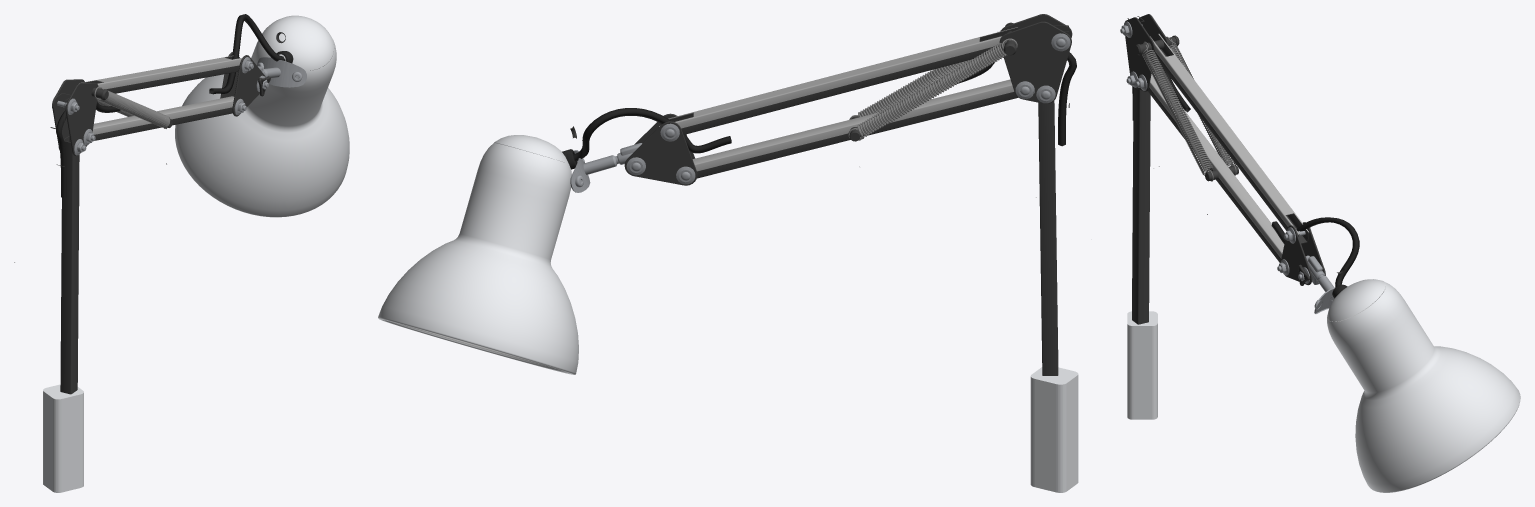
The model's file is Lamp Rotated.fbx.
3 views of the same model, side by side, from view 1: azimuth 30°, elevation 25°; view 2: azimuth 150°, elevation 25°; view 3: azimuth 270°, elevation 25° (orthographic). The views are drawn at different scales.
Visible parts, largest first — view 1: Object_2108, Object_1944, Object_2258, Object_1958, Object_1946, Object_2280, Object_2268, Object_2008, Object_2310, Object_2256, Object_2278, Object_2266 (+3 smaller); view 2: Object_2108, Object_1944, Object_2280, Object_2268, Object_2012, Object_2316, Object_2258, Object_2278, Object_2256, Object_1946, Object_2266, Object_1974 (+2 smaller); view 3: Object_2108, Object_2256, Object_1944, Object_2280, Object_2268, Object_2310, Object_1958, Object_1946, Object_2008, Object_2278, Object_2258, Object_1970 (+2 smaller).
Boxes of the visible parts, x1,y1,x2,y2 form: Object_2108: (175, 19, 349, 217); Object_1944: (43, 384, 83, 492); Object_2258: (60, 141, 76, 394); Object_1958: (267, 15, 333, 70); Object_1946: (56, 14, 285, 198); Object_2280: (79, 55, 242, 89); Object_2268: (92, 96, 234, 134); Object_2008: (67, 83, 98, 155); Object_2310: (94, 86, 170, 128); Object_2256: (74, 154, 79, 391); Object_2278: (106, 65, 239, 93); Object_2266: (94, 107, 232, 140); Object_2108: (378, 142, 578, 374); Object_1944: (1030, 367, 1078, 492); Object_2280: (659, 27, 1017, 128); Object_2268: (692, 79, 1014, 171); Object_2012: (1000, 22, 1071, 103); Object_2316: (848, 38, 1017, 140); Object_2258: (1046, 101, 1058, 375); Object_2278: (681, 46, 998, 134); Object_2256: (1038, 102, 1050, 375); Object_1946: (573, 52, 1076, 161); Object_2266: (697, 91, 1018, 178); Object_1974: (625, 122, 696, 185); Object_2108: (1327, 282, 1520, 492); Object_2256: (1134, 89, 1150, 324); Object_1944: (1127, 311, 1157, 419); Object_2280: (1150, 34, 1308, 235); Object_2268: (1149, 74, 1284, 258); Object_2310: (1142, 41, 1213, 181); Object_1958: (1327, 279, 1385, 321); Object_1946: (1132, 66, 1359, 287); Object_2008: (1125, 18, 1153, 91); Object_2278: (1155, 52, 1287, 230); Object_2258: (1132, 87, 1136, 321); Object_1970: (1281, 226, 1310, 284).
Bounding box in the file's own units: 406 × 333 × 301.
